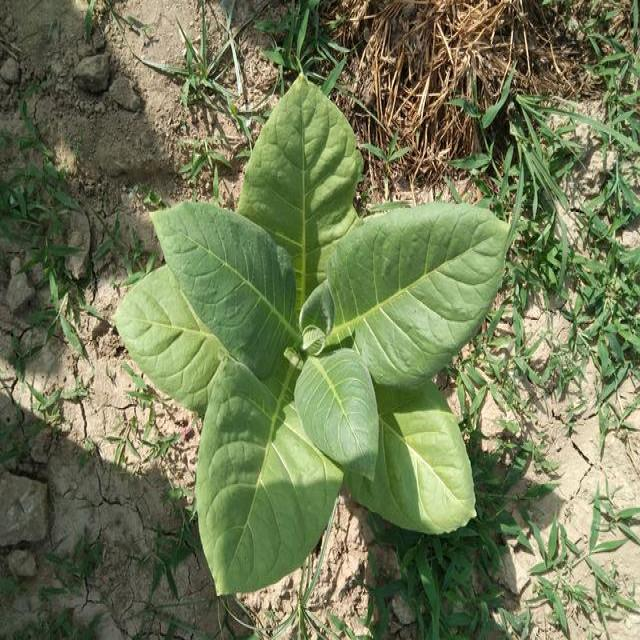crop: (109, 77, 513, 604)
